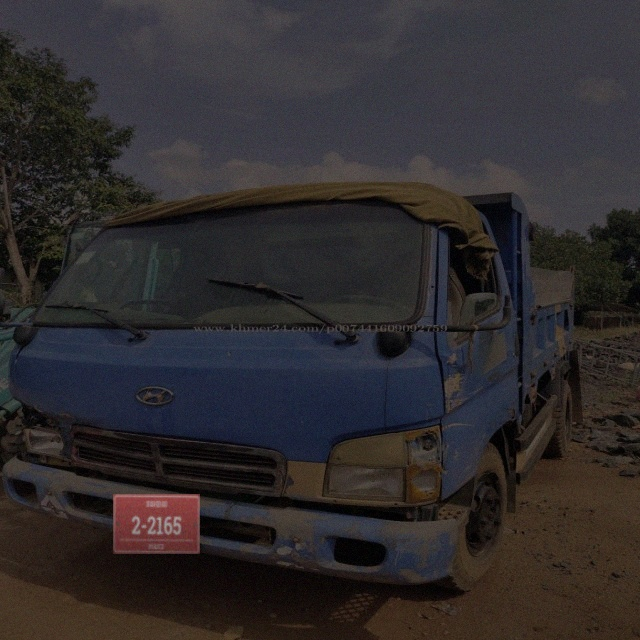Plate Number: (113, 494, 200, 554)
